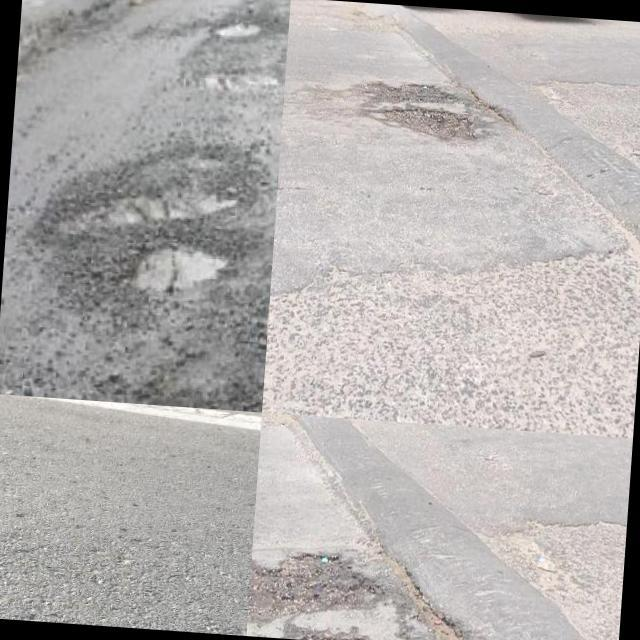Pothole: (64, 179, 239, 232), (247, 557, 373, 627), (372, 80, 472, 143), (130, 245, 228, 294)
